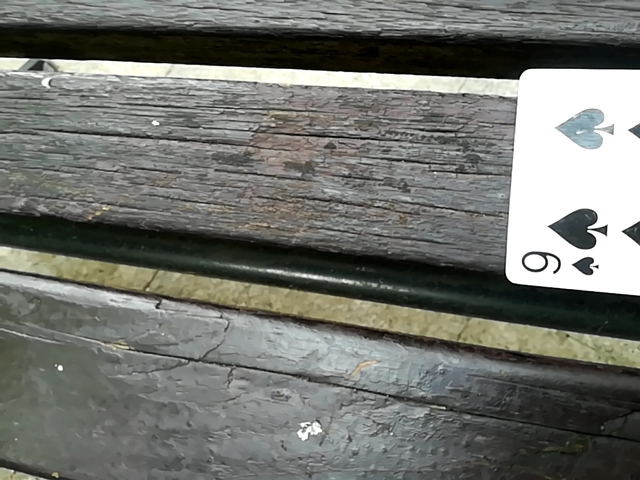ht 9: (488, 61, 637, 322)
